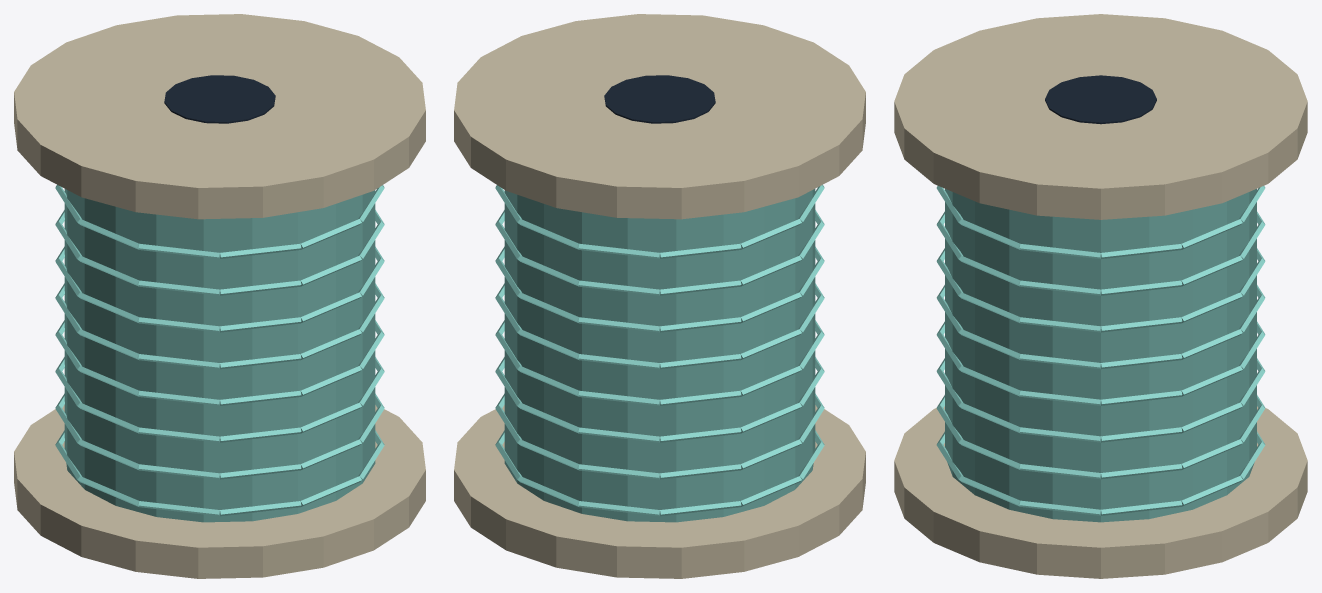
File: space_scene_glass_bamboo_fibre.glb
The picture shows the model from 3 angles, left to right: view 1: azimuth 30°, elevation 25°; view 2: azimuth 150°, elevation 25°; view 3: azimuth 270°, elevation 25°; orthographic projection.
Visible parts, largest first — view 1: FixedDetails, BrassTrim; view 2: FixedDetails, BrassTrim; view 3: FixedDetails, BrassTrim.
Boxes of the visible parts, bbox=[...] form: FixedDetails: bbox=[14, 14, 425, 578]; BrassTrim: bbox=[55, 184, 384, 516]; FixedDetails: bbox=[454, 14, 865, 578]; BrassTrim: bbox=[495, 184, 824, 516]; FixedDetails: bbox=[894, 14, 1307, 578]; BrassTrim: bbox=[936, 186, 1265, 515].
Bounding box in the file's own units: 0.48 × 0.503 × 0.48.
